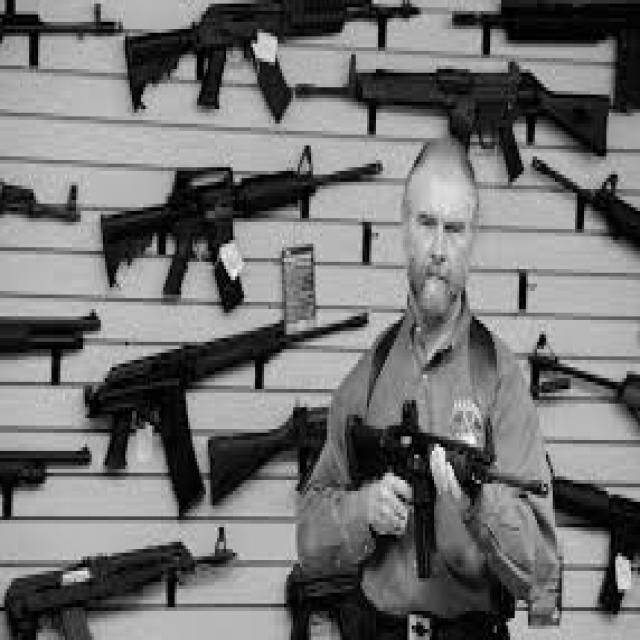gun: (85, 309, 369, 513), (99, 142, 382, 309), (293, 51, 609, 182), (345, 396, 548, 578), (123, 0, 419, 120), (2, 524, 235, 636), (526, 331, 638, 425), (530, 153, 638, 247)
